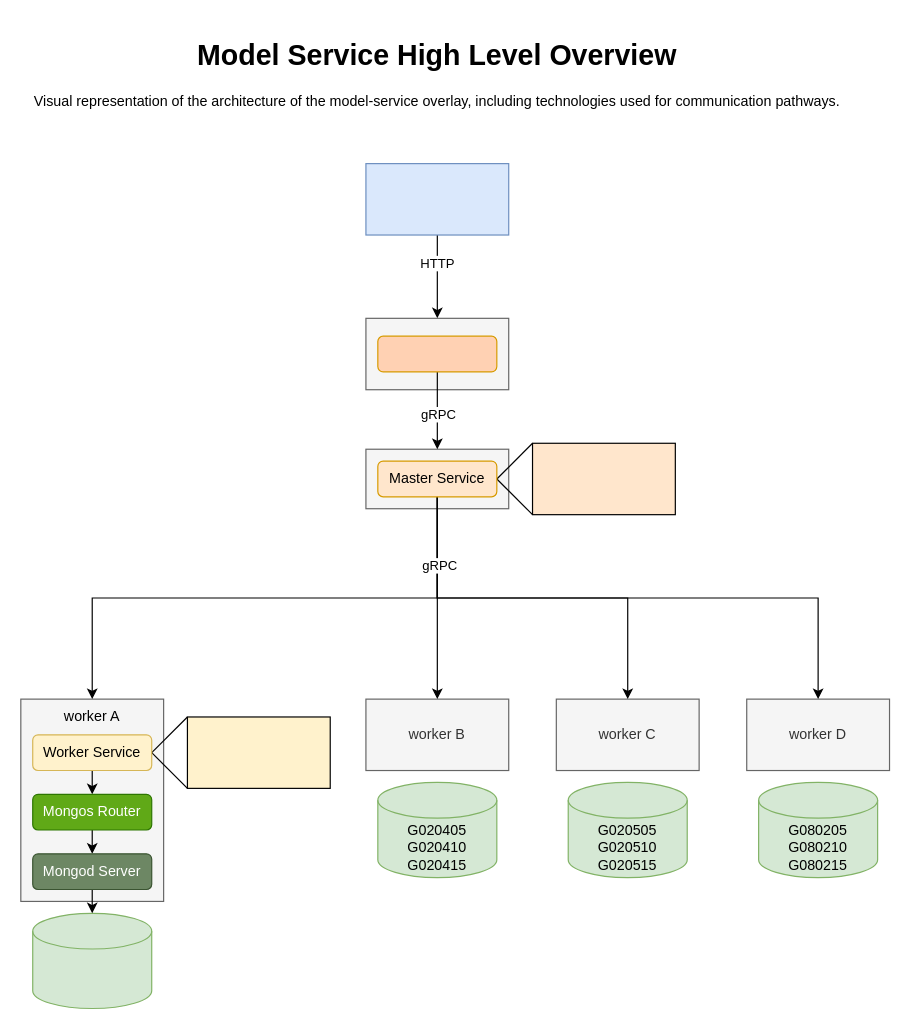
The diagram is 910 pixels wide and 1029 high, and some of its shapes have lost their labels. The centre of each missing label's shape, as x and y in pixels:
client: (x=437, y=198)
Flask HTTP Server: (x=437, y=353)
G020305 G020310 G020315: (x=92, y=960)
gRPC Services Data Locations Worker Statuses: (x=603, y=478)
gRPC Services PyMongo Pandas Tensorflow: (x=258, y=752)
